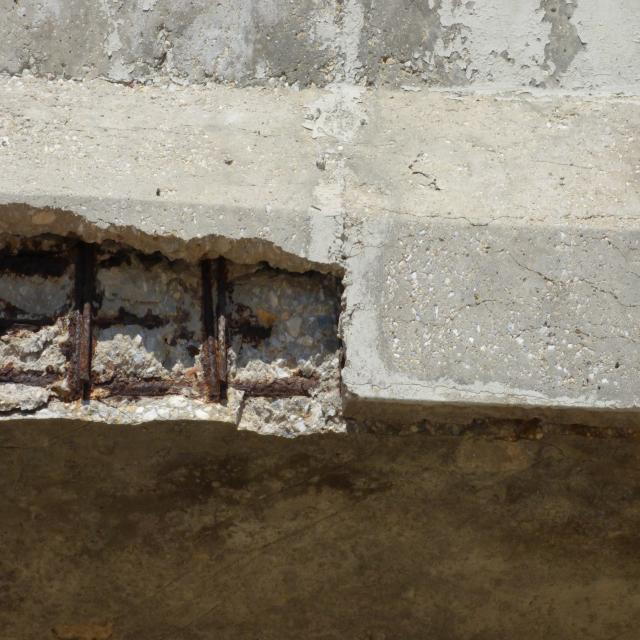corrosion: (0, 176, 367, 430)
